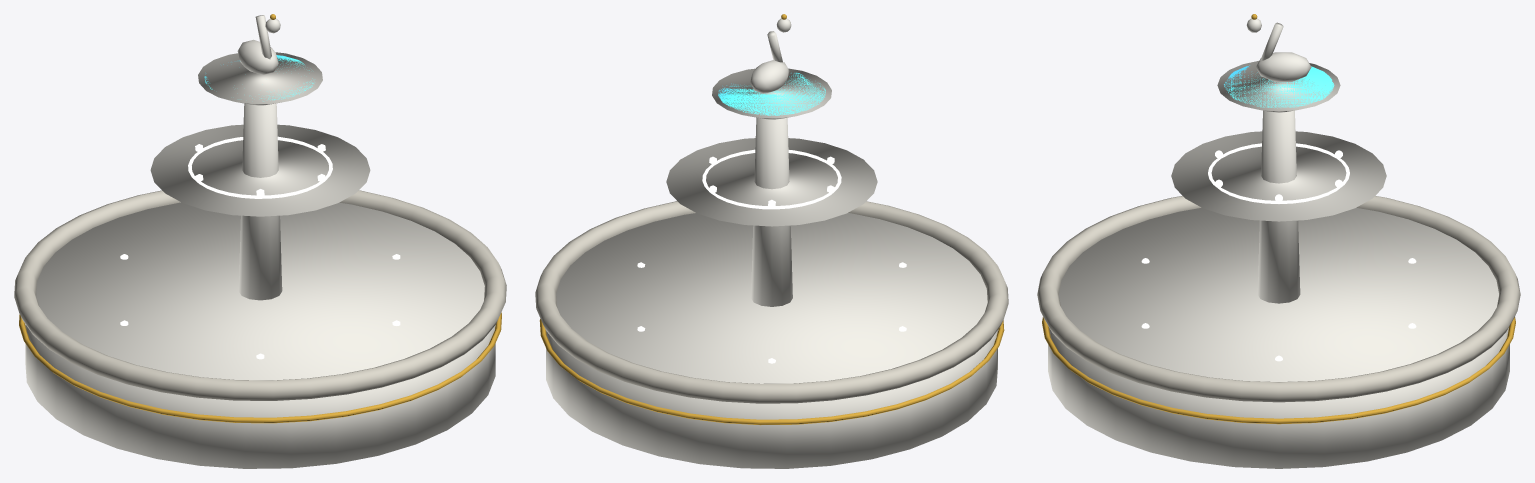
Rendered from elven-fountain.glb.
The picture shows the model from 3 angles, left to right: view 1: azimuth 30°, elevation 25°; view 2: azimuth 150°, elevation 25°; view 3: azimuth 270°, elevation 25°; orthographic projection. The views are drawn at different scales.
Visible parts, largest first — view 1: Model Mesh, Spin+ Ripple 1 Mesh; view 2: Model Mesh, Spin+ Ripple 1 Mesh; view 3: Model Mesh, Spin+ Ripple 1 Mesh.
Boxes of the visible parts, x1,y1,x2,y2 form: Model Mesh: (14, 14, 506, 468); Spin+ Ripple 1 Mesh: (188, 136, 332, 198); Model Mesh: (535, 14, 1008, 468); Spin+ Ripple 1 Mesh: (702, 149, 841, 209); Model Mesh: (1037, 14, 1520, 468); Spin+ Ripple 1 Mesh: (1208, 143, 1349, 203).
Size of the model in its own units: 3.14 by 2.56 by 3.14.
